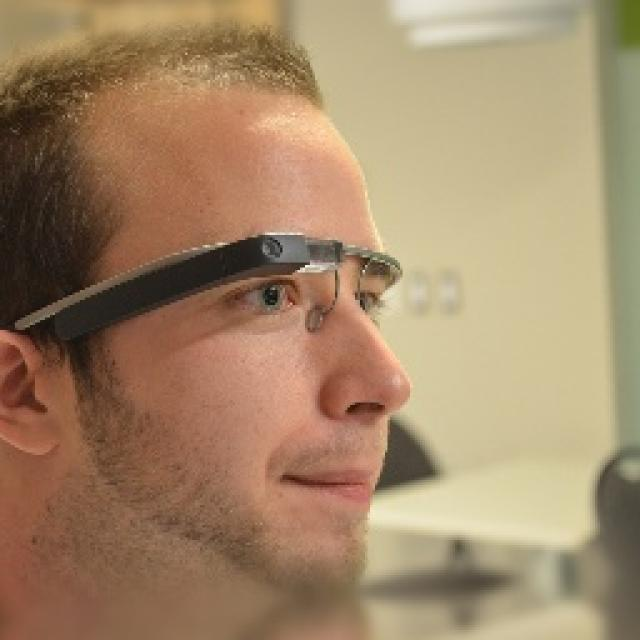glasses: (22, 226, 416, 363)
